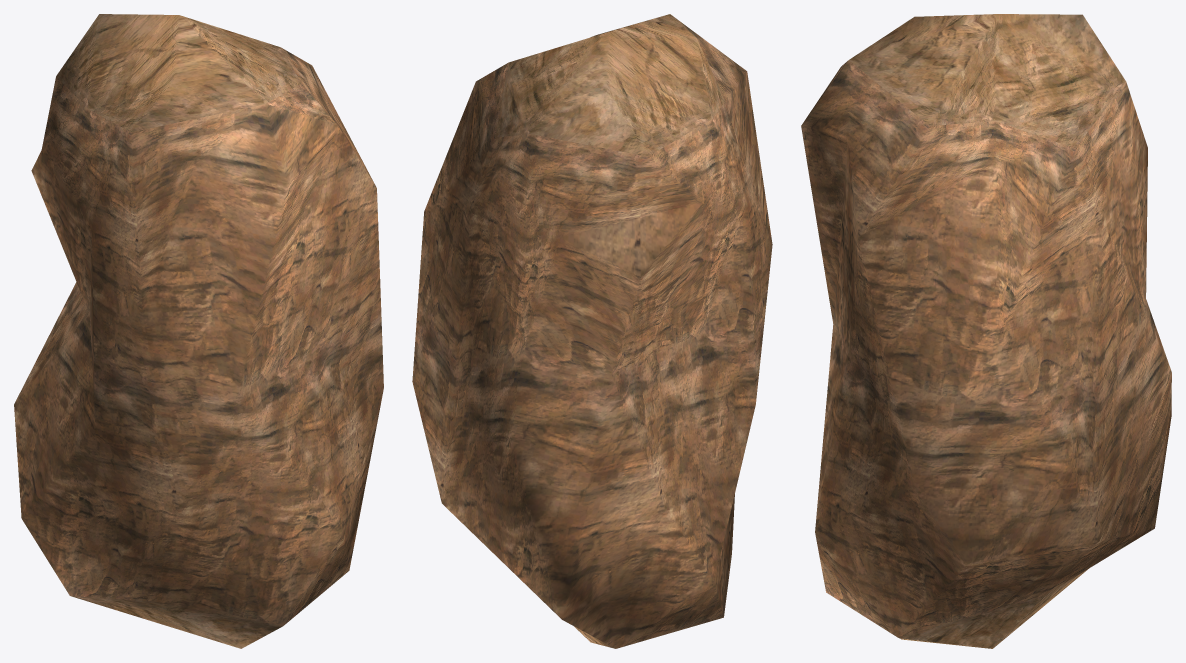
Rendered from rock_tatt_bensmesa_boulder_a3_l2.fbx.
3 views of the same model, side by side, from view 1: azimuth 30°, elevation 25°; view 2: azimuth 150°, elevation 25°; view 3: azimuth 270°, elevation 25° (orthographic). The views are drawn at different scales.
Visible parts, largest first — view 1: mesh_node; view 2: mesh_node; view 3: mesh_node.
Part boxes in pixels (left/top/right/bottom): mesh_node: left=14, top=14, right=383, bottom=648; mesh_node: left=412, top=14, right=772, bottom=648; mesh_node: left=801, top=14, right=1171, bottom=648.
Size of the model in its own units: 2.32 by 4.32 by 2.32.
